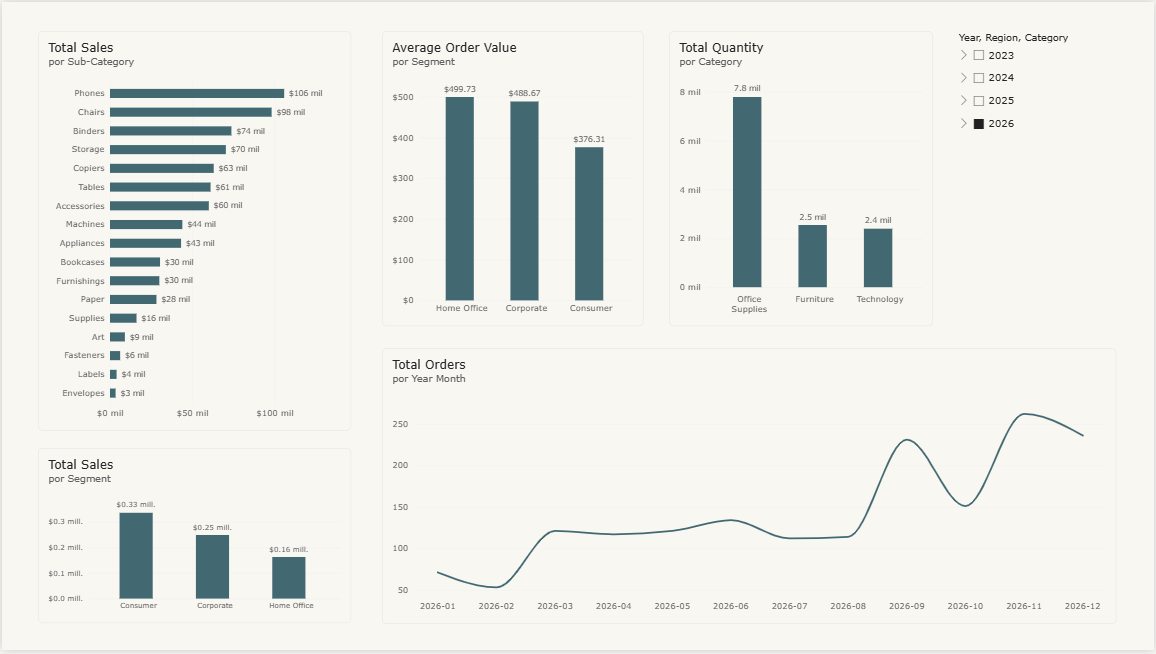

Layout of this report page (visuals, bound fields, positions):
{"tool":"powerbi","page":{"name":"Sales Performance","canvas":[1920,1080],"ordinal":1},"visuals":[{"type":"clusteredBarChart","fields":{"Category":["Orders.Sub-Category"],"Y":["Orders.Total Sales"]},"box":[60,48,522,666],"z":0},{"type":"clusteredColumnChart","fields":{"Category":["Orders.Segment"],"Y":["Orders.Total Sales"]},"box":[60,744,522,292],"z":1000},{"type":"lineChart","fields":{"Category":["Calendar.Year Month"],"Y":["Orders.Total Orders"]},"box":[634,576,1224,460],"z":2000},{"type":"clusteredColumnChart","fields":{"Category":["Orders.Segment"],"Y":["Orders.Average Order Value"]},"box":[634,48,436,492],"z":3000},{"type":"clusteredColumnChart","fields":{"Category":["Orders.Category"],"Y":["Orders.Total Quantity"]},"box":[1112,48,440,492],"z":4000},{"type":"slicer","fields":{"Values":["Calendar.Year","Orders.Region","Orders.Category"]},"box":[1586,48,272,492],"z":5000}]}

Visuals, with their boxes in screenshot pixels (x1, y1, x2, y2), scaled from the page's 1920x1080 canvas onto the 1156x654 screenshot:
clusteredBarChart - Orders.Sub-Category x Orders.Total Sales: 36:29:350:432
clusteredColumnChart - Orders.Segment x Orders.Total Sales: 36:451:350:627
lineChart - Calendar.Year Month x Orders.Total Orders: 382:349:1119:627
clusteredColumnChart - Orders.Segment x Orders.Average Order Value: 382:29:644:327
clusteredColumnChart - Orders.Category x Orders.Total Quantity: 670:29:934:327
slicer - Calendar.Year x Orders.Region: 955:29:1119:327
